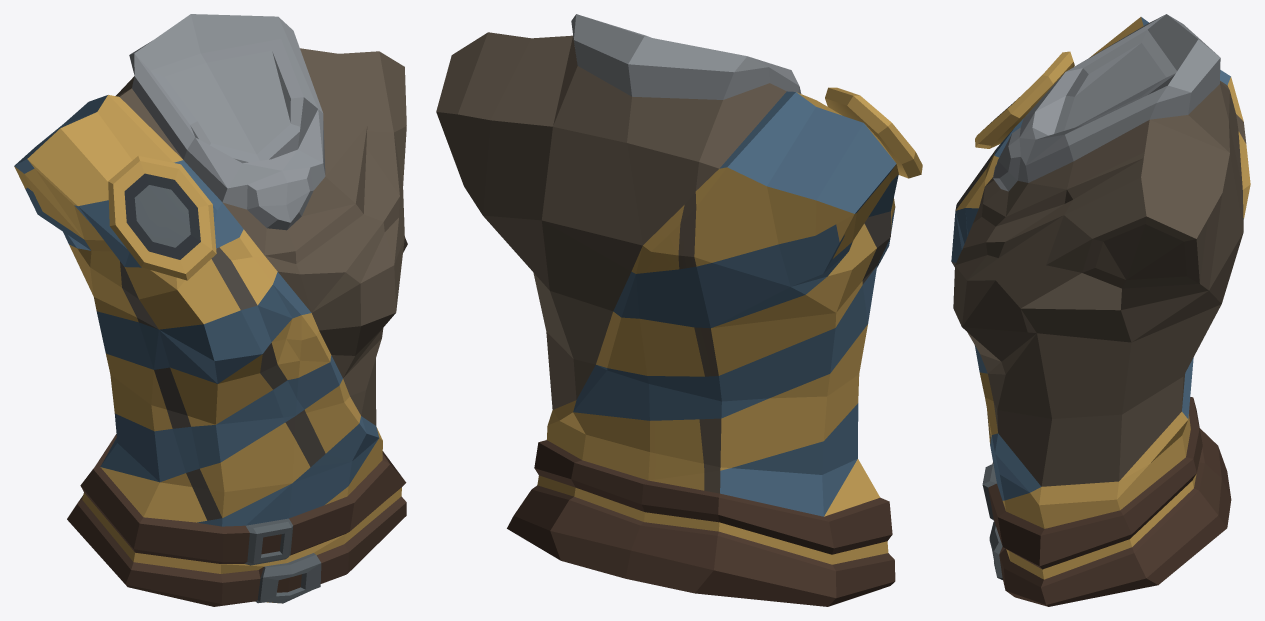
Rendered from Chr_Torso_Female_26_Static.fbx.
3 views of the same model, side by side, from view 1: azimuth 30°, elevation 25°; view 2: azimuth 150°, elevation 25°; view 3: azimuth 270°, elevation 25° (orthographic). The views are drawn at different scales.
Parts seen in each view (by area): view 1: Chr_Torso_Female_26_Static; view 2: Chr_Torso_Female_26_Static; view 3: Chr_Torso_Female_26_Static.
Part boxes in pixels (x1=…): Chr_Torso_Female_26_Static: x1=14, y1=14, x2=407, y2=606; Chr_Torso_Female_26_Static: x1=436, y1=14, x2=922, y2=606; Chr_Torso_Female_26_Static: x1=951, y1=14, x2=1250, y2=606.
Bounding box in the file's own units: 0.5172 × 0.6831 × 0.3458.
